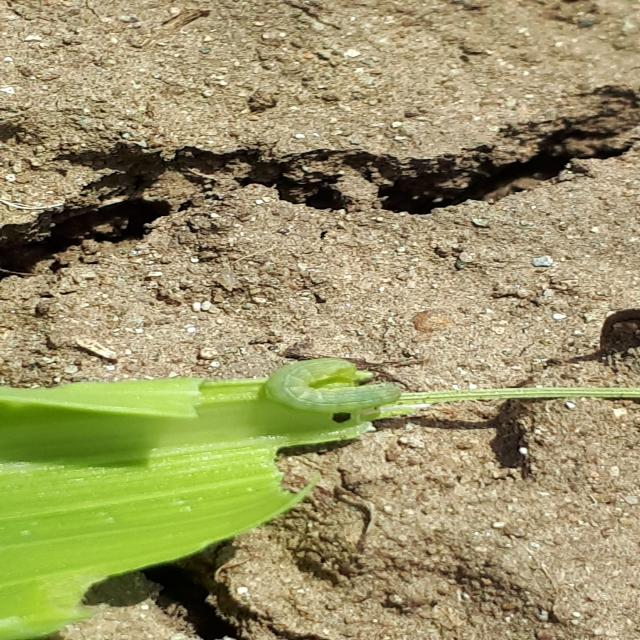armyworm: (264, 357, 406, 414)
